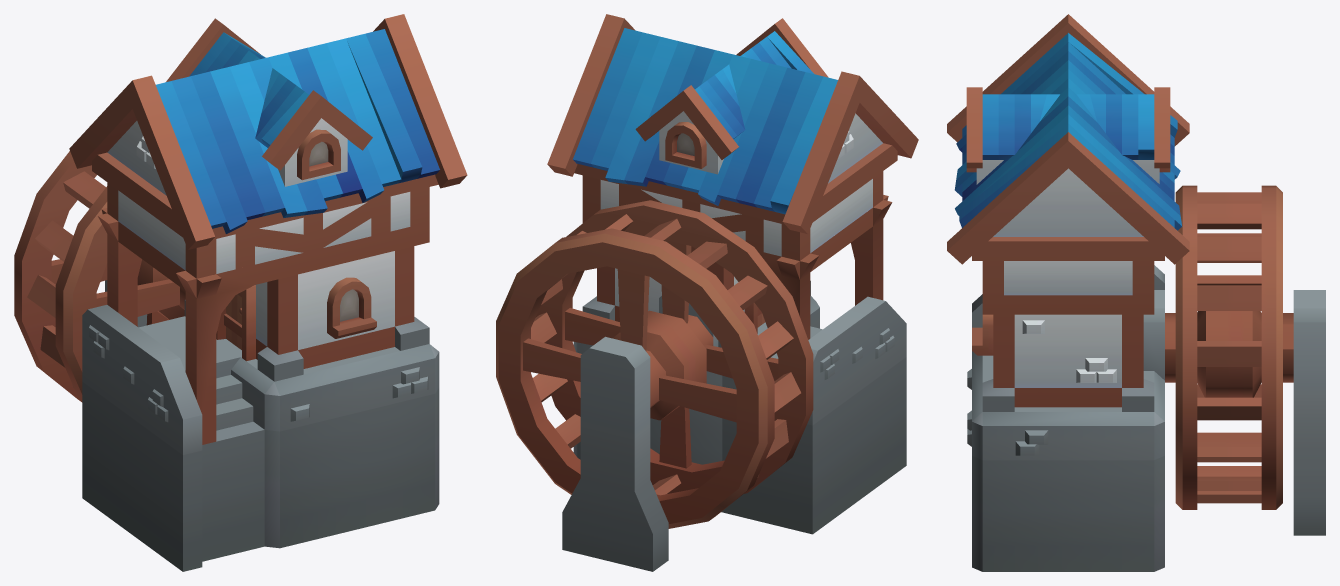
The model's file is watermill_blue.glb.
3 views of the same model, side by side, from view 1: azimuth 30°, elevation 25°; view 2: azimuth 150°, elevation 25°; view 3: azimuth 270°, elevation 25° (orthographic). The views are drawn at different scales.
Visible parts, largest first — view 1: building_watermill_blue, building_watermill_wheel_blue; view 2: building_watermill_blue, building_watermill_wheel_blue; view 3: building_watermill_blue, building_watermill_wheel_blue.
Part boxes in pixels (box(x1,y1,x2,y2)): building_watermill_blue: box(69, 14, 467, 571); building_watermill_wheel_blue: box(14, 151, 185, 402); building_watermill_blue: box(547, 14, 918, 571); building_watermill_wheel_blue: box(496, 200, 813, 528); building_watermill_blue: box(947, 14, 1325, 571); building_watermill_wheel_blue: box(1165, 185, 1293, 509).
Size of the model in its own units: 1.05 by 1.57 by 1.24.
1 material, 1 textured.
